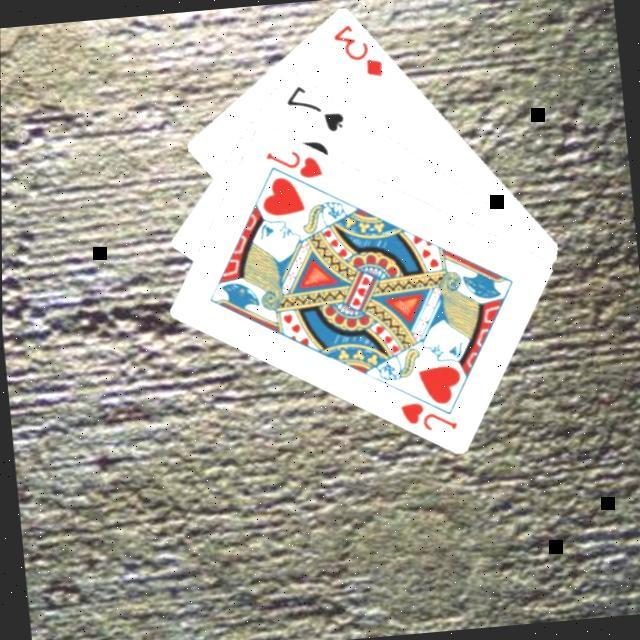3D: (326, 16, 386, 82)
7S: (280, 75, 347, 136)
JH: (394, 392, 459, 435), (260, 141, 324, 183)
